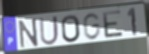1: (127, 6, 138, 38)
E: (101, 9, 124, 40)
G: (82, 12, 101, 41)
N: (17, 17, 40, 49)
O: (60, 14, 82, 44)
U: (39, 14, 60, 46)
